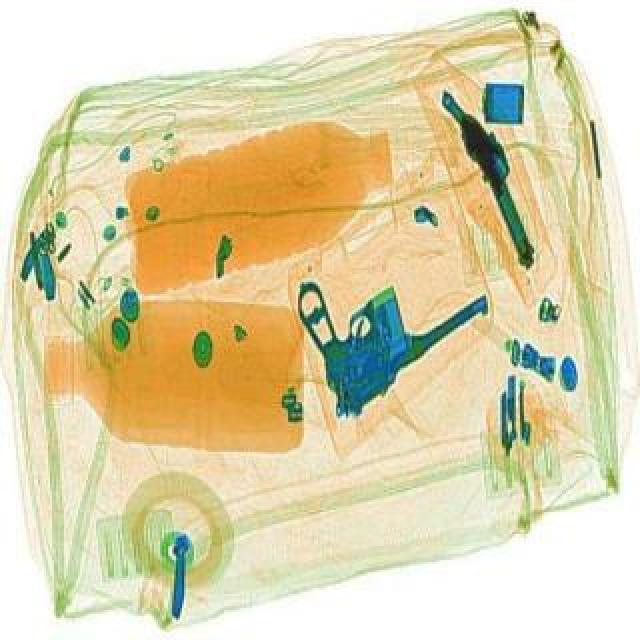gun: (262, 220, 510, 434), (426, 84, 558, 282)
